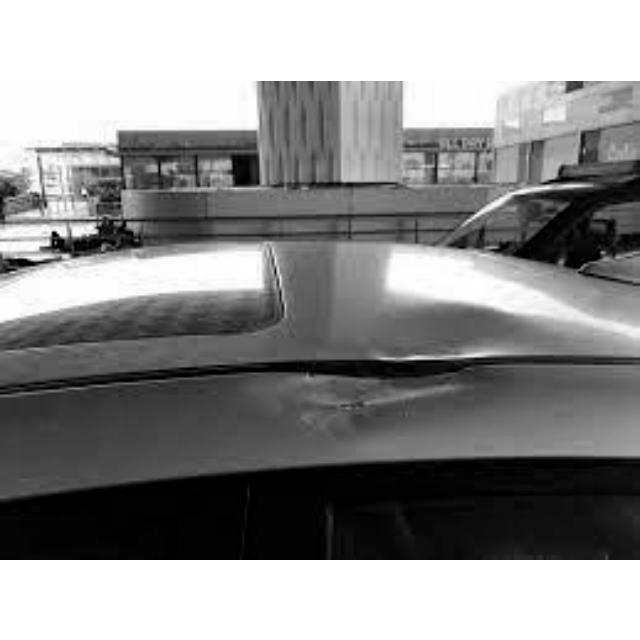roof-dent: (144, 241, 593, 495)
